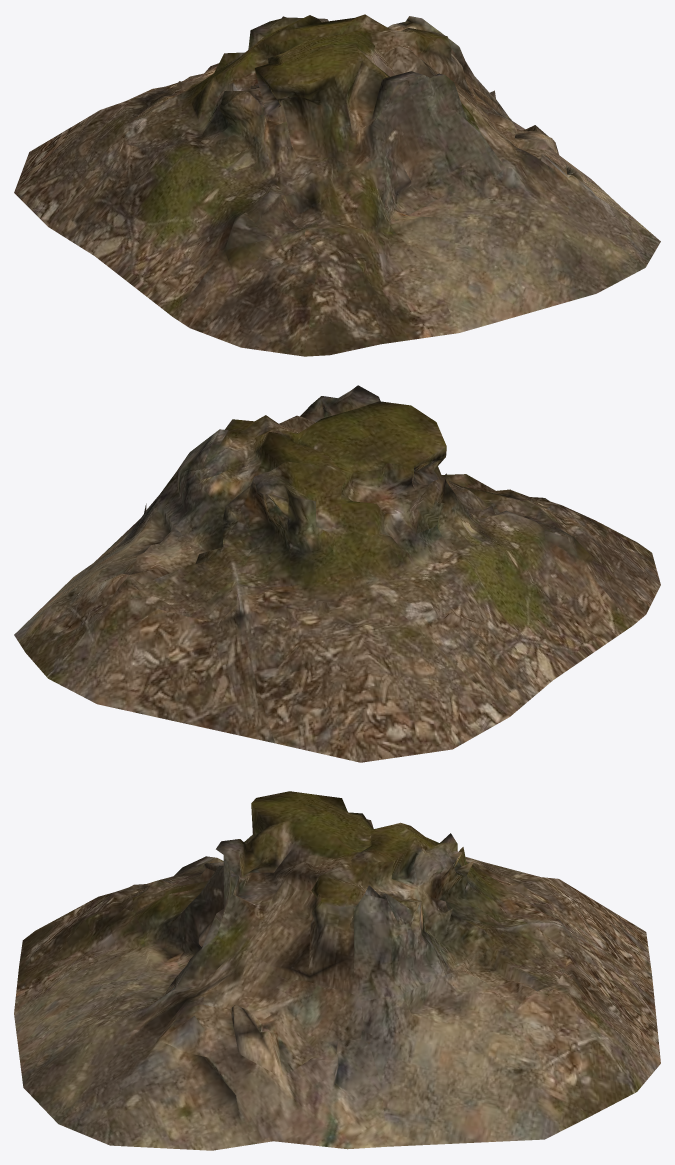
Rendered from tree_stump_01.glb.
3 renders of one model, top to bottom at view 1: azimuth 30°, elevation 25°; view 2: azimuth 150°, elevation 25°; view 3: azimuth 270°, elevation 25°, orthographic. The views are drawn at different scales.
Visible parts, largest first — view 1: tree_stump_01; view 2: tree_stump_01; view 3: tree_stump_01.
Boxes of the visible parts, x1,y1,x2,y2 form: tree_stump_01: (14, 14, 660, 356); tree_stump_01: (14, 385, 660, 762); tree_stump_01: (14, 791, 660, 1150).
Bounding box in the file's own units: 1.43 × 0.5646 × 1.59.
1 material, 1 textured.
